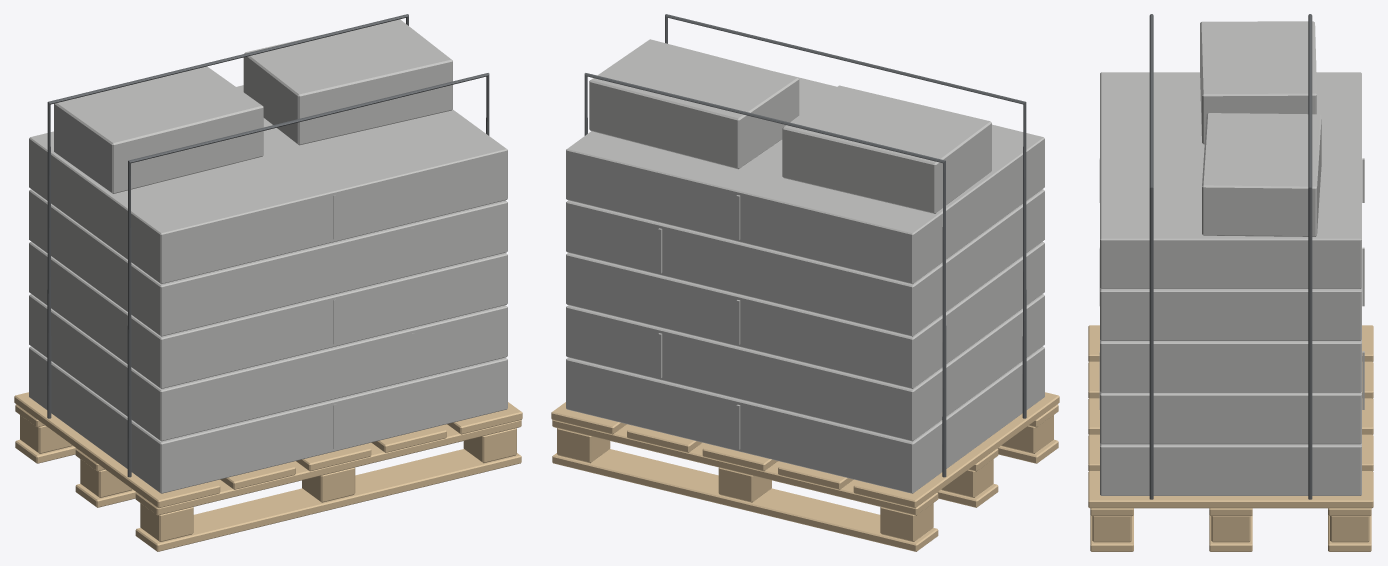
The model's file is concrete-block-pack.glb.
3 renders of one model, left to right at view 1: azimuth 30°, elevation 25°; view 2: azimuth 150°, elevation 25°; view 3: azimuth 270°, elevation 25°, orthographic.
Parts seen in each view (by area): view 1: concrete-block-pack; view 2: concrete-block-pack; view 3: concrete-block-pack.
Part boxes in pixels (x1=…): concrete-block-pack: x1=14, y1=14, x2=522, y2=551; concrete-block-pack: x1=551, y1=14, x2=1059, y2=551; concrete-block-pack: x1=1088, y1=14, x2=1373, y2=551.
Size of the model in its own units: 1.05 by 1.01 by 0.72.
